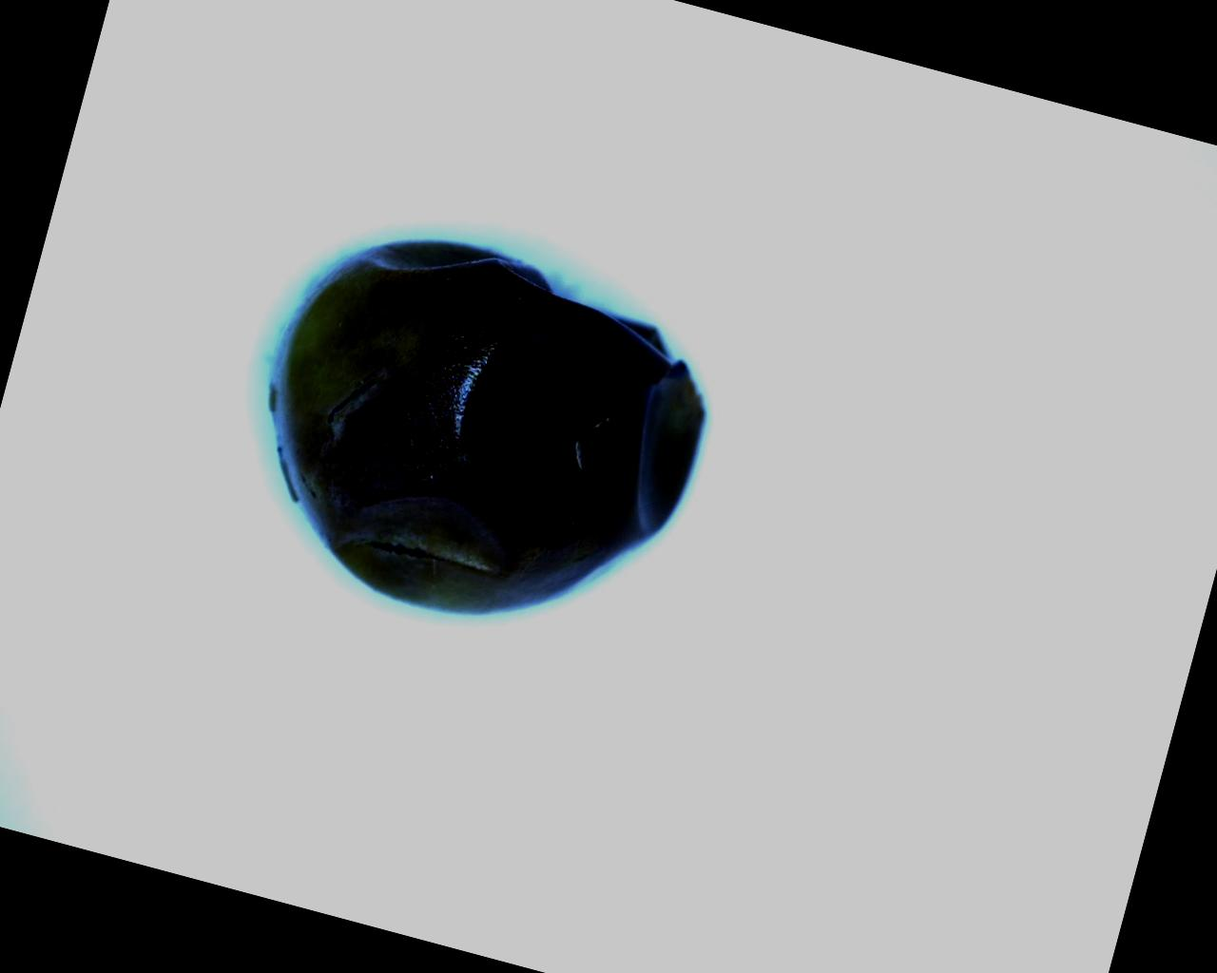Grape Rotten: (218, 199, 737, 668)
